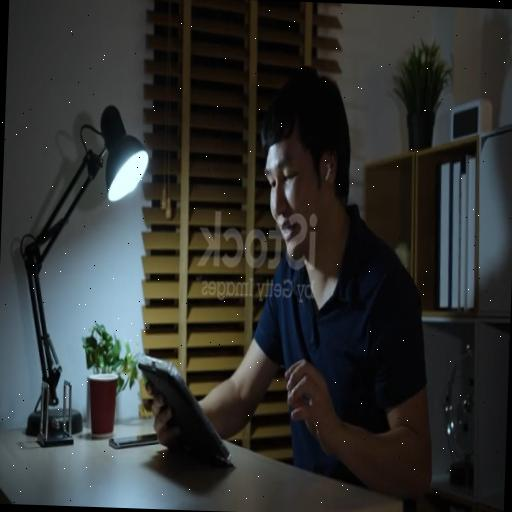earphone: (322, 160, 332, 188)
